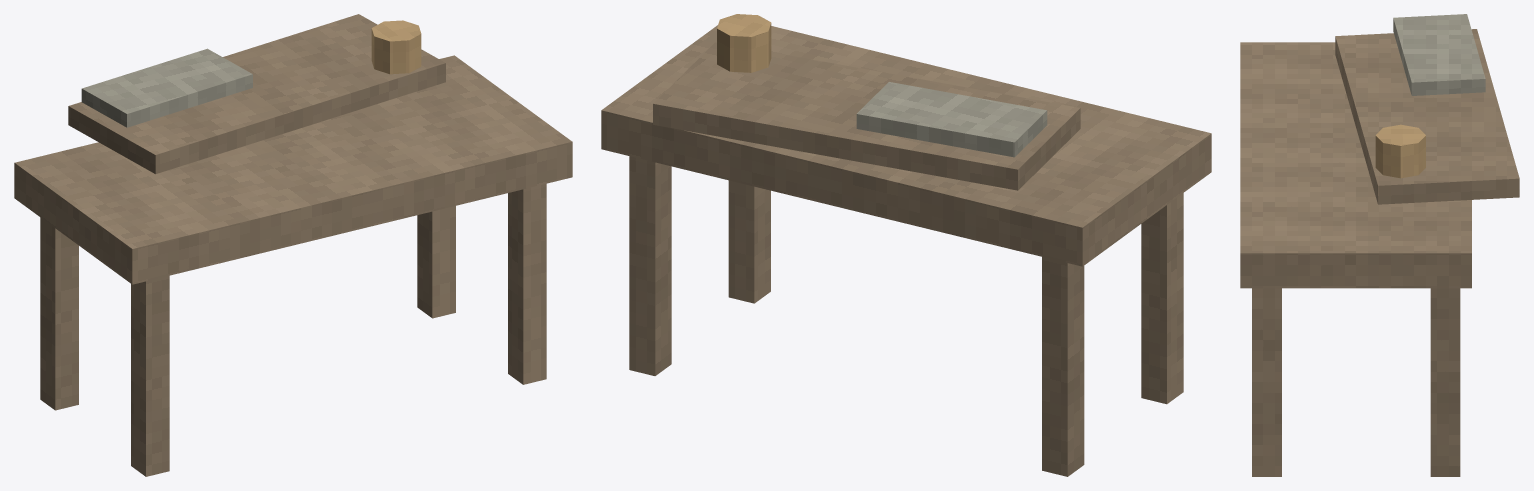
File: level_blockout_monastery_scriptorium.glb
3 renders of one model, left to right at view 1: azimuth 30°, elevation 25°; view 2: azimuth 150°, elevation 25°; view 3: azimuth 270°, elevation 25°, orthographic. The views are drawn at different scales.
Visible parts, largest first — view 1: level_blockout_monastery_scriptorium; view 2: level_blockout_monastery_scriptorium; view 3: level_blockout_monastery_scriptorium.
Part boxes in pixels (x1=…): level_blockout_monastery_scriptorium: x1=14, y1=14, x2=572, y2=476; level_blockout_monastery_scriptorium: x1=601, y1=14, x2=1211, y2=476; level_blockout_monastery_scriptorium: x1=1240, y1=14, x2=1519, y2=476.
Bounding box in the file's own units: 1.68 × 1.13 × 0.9401.
Materials: 3 (3 with a texture image).
